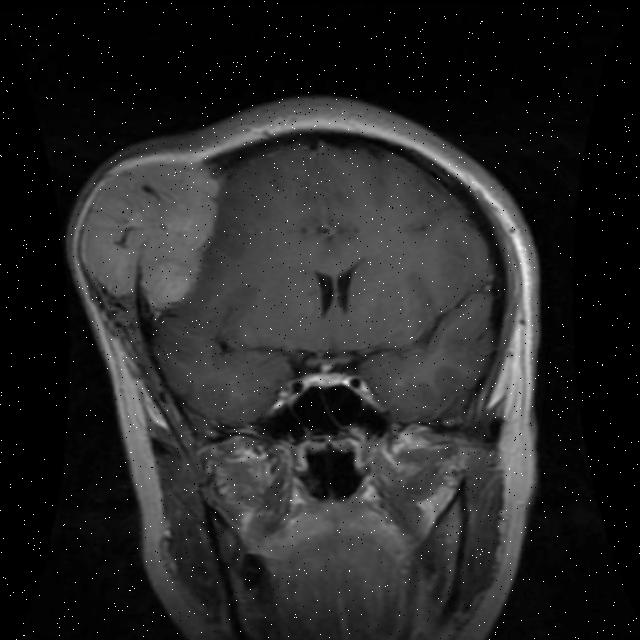Meningioma: (73, 154, 227, 314)
